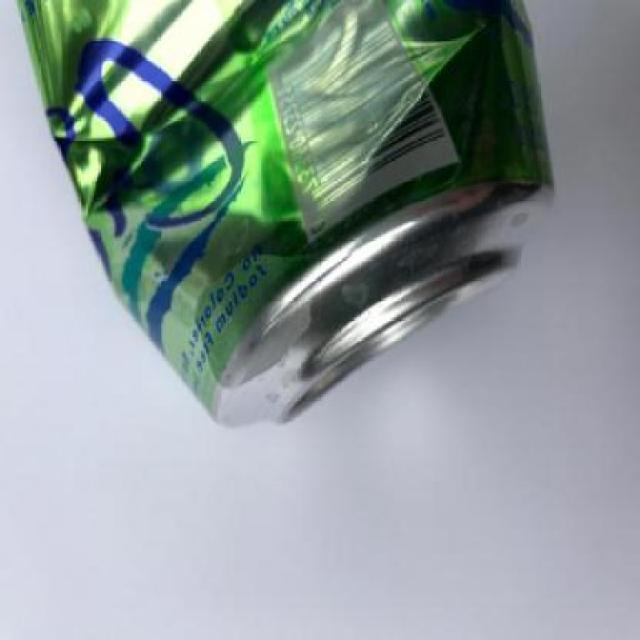METAL: (17, 2, 552, 426)
